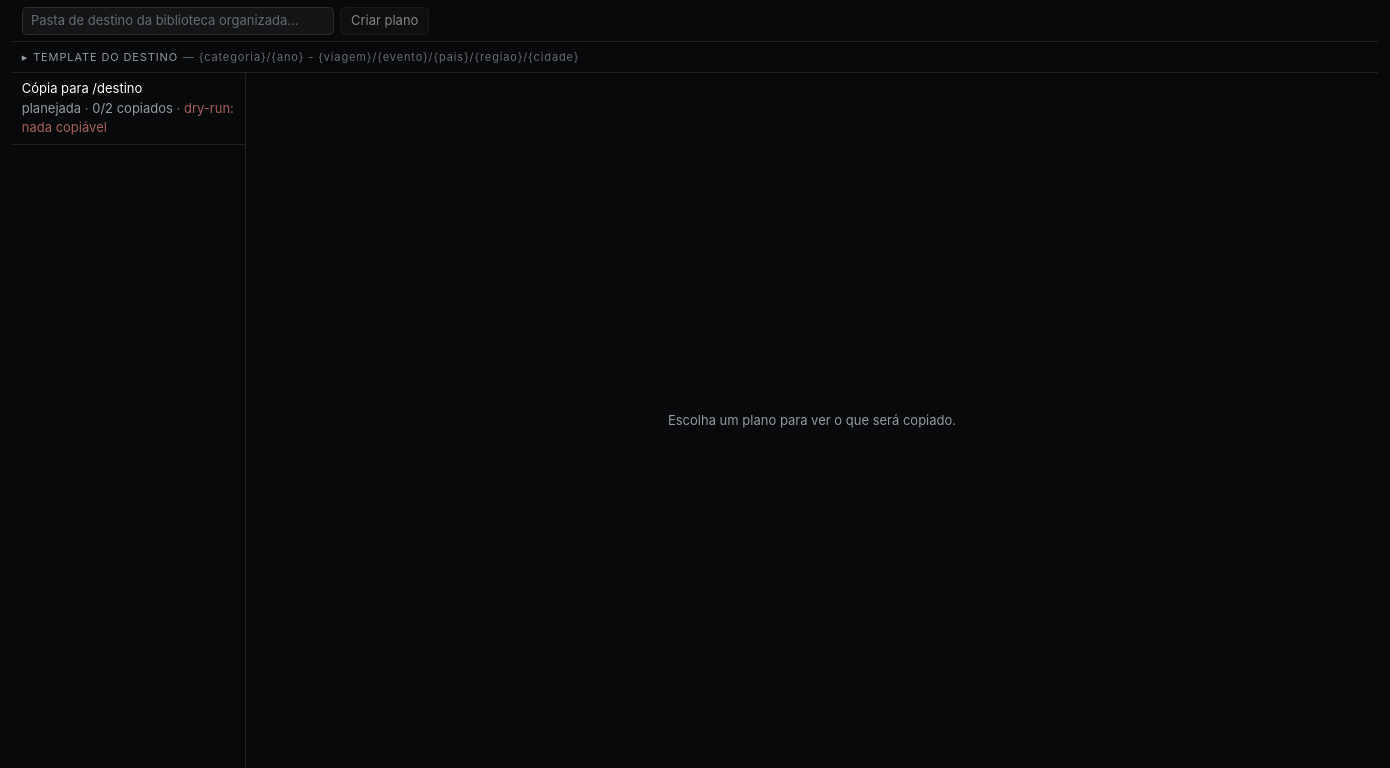
Test: Operações › dry-run sem nada copiável bloqueia, mesmo tendo rodado
Click the text "Cópia para /destino". click: (82, 88)
box: [22, 80, 142, 96]
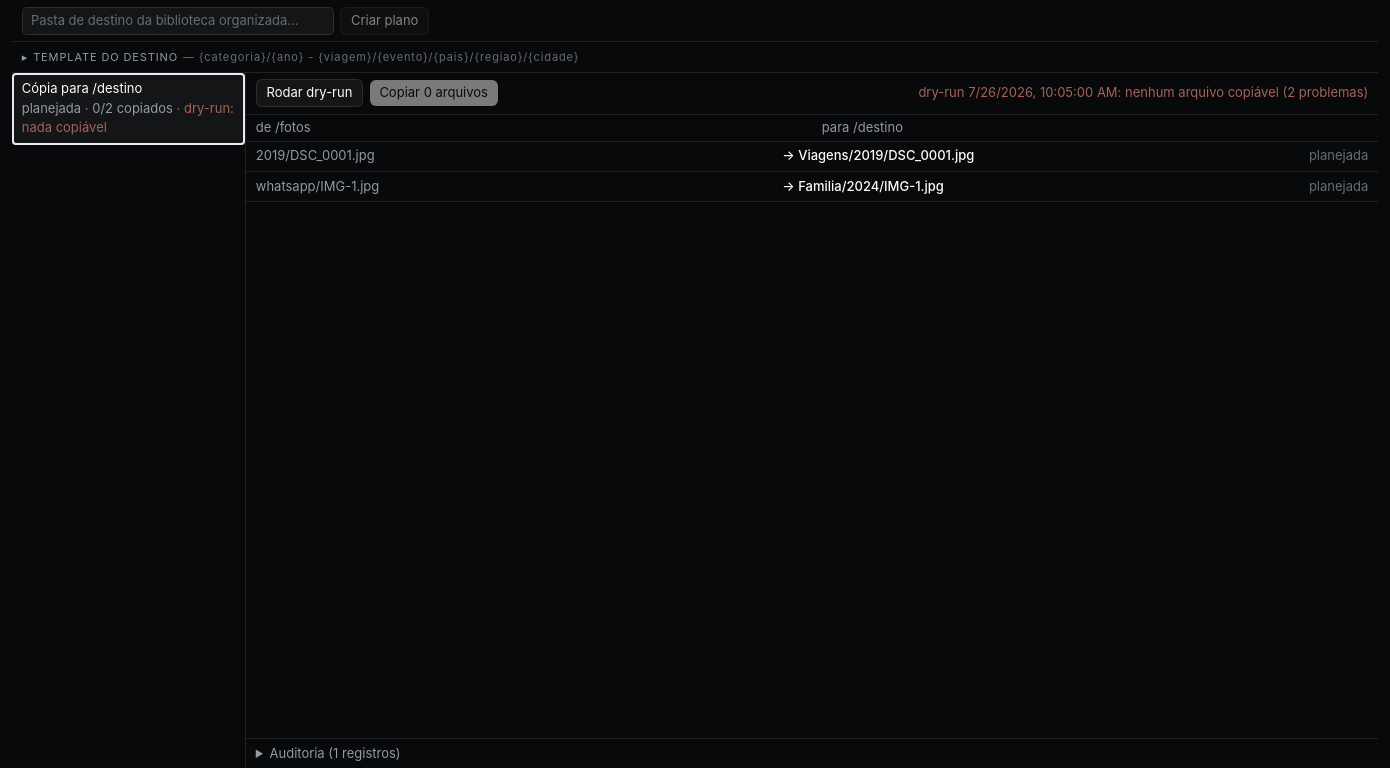
Result: the button "Copiar 0 arquivos" is disabled at [370, 80, 498, 106]
Result: the text "nenhum arquivo copiável (2 problemas)" is shown at [918, 84, 1368, 100]
